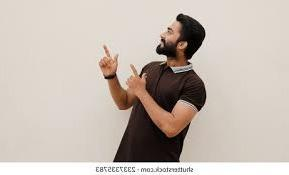Human: (95, 5, 227, 165)
